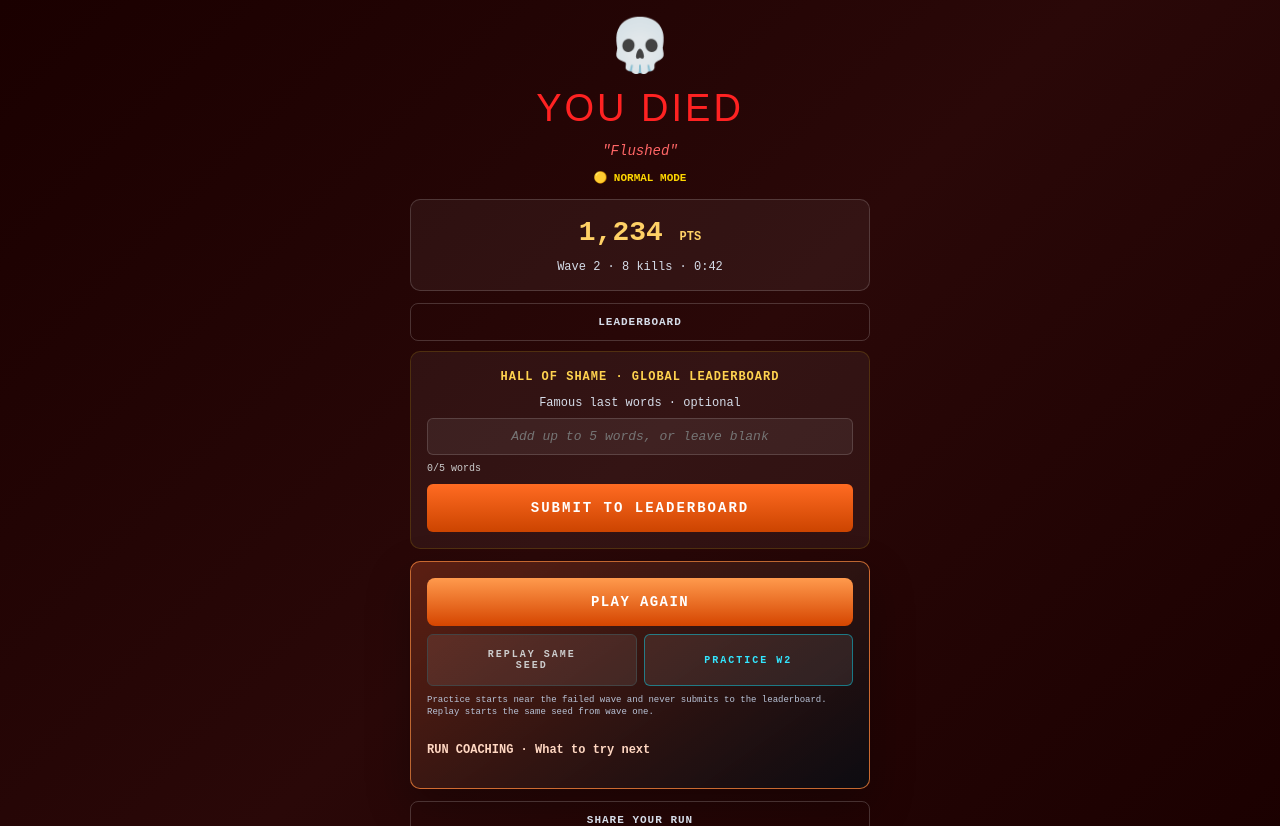
end-run player actions › distinguishes rejected submission from online success
The width and height of the screenshot is (1280, 826).
Click the button with test id "submit-to-leaderboard".
click(640, 508)  # box [427, 484, 853, 532]
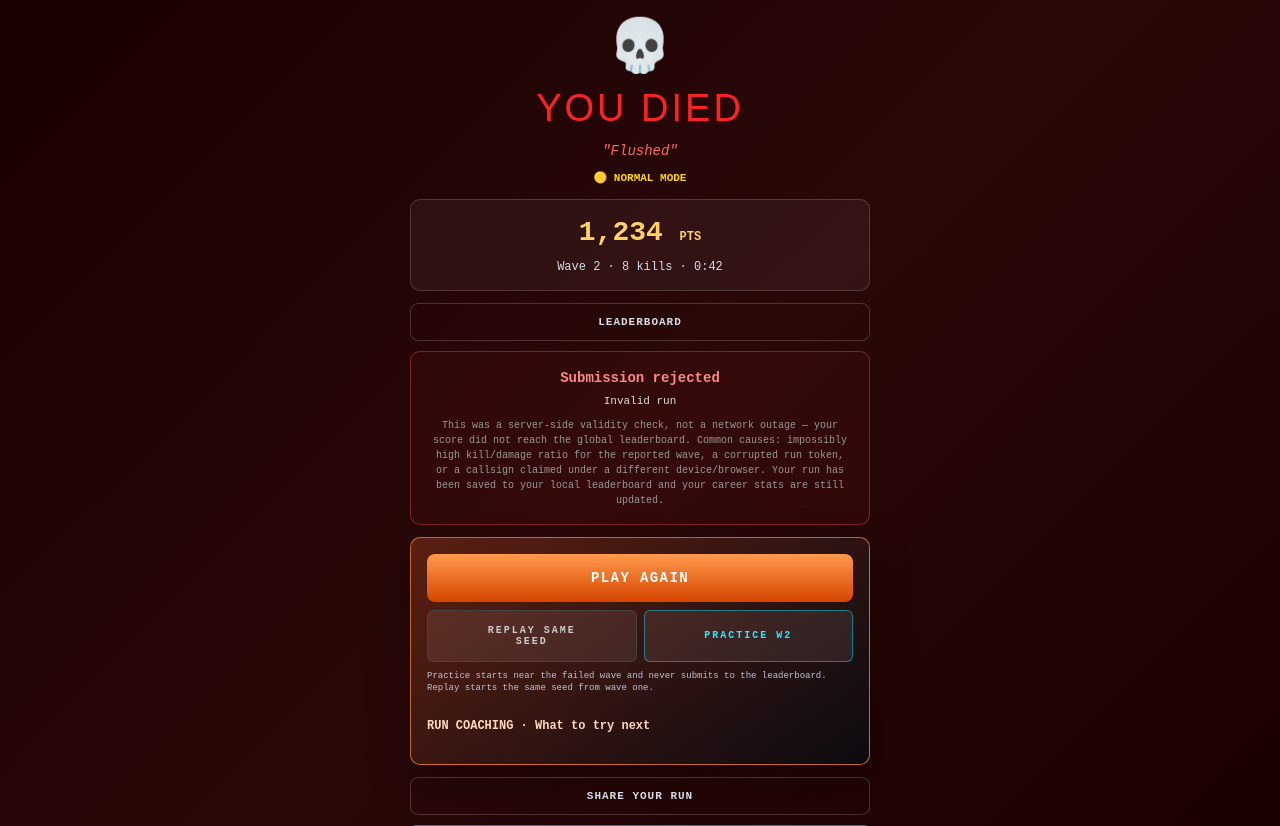
Check: the text "Submission rejected" is shown, box [560, 370, 720, 386]
